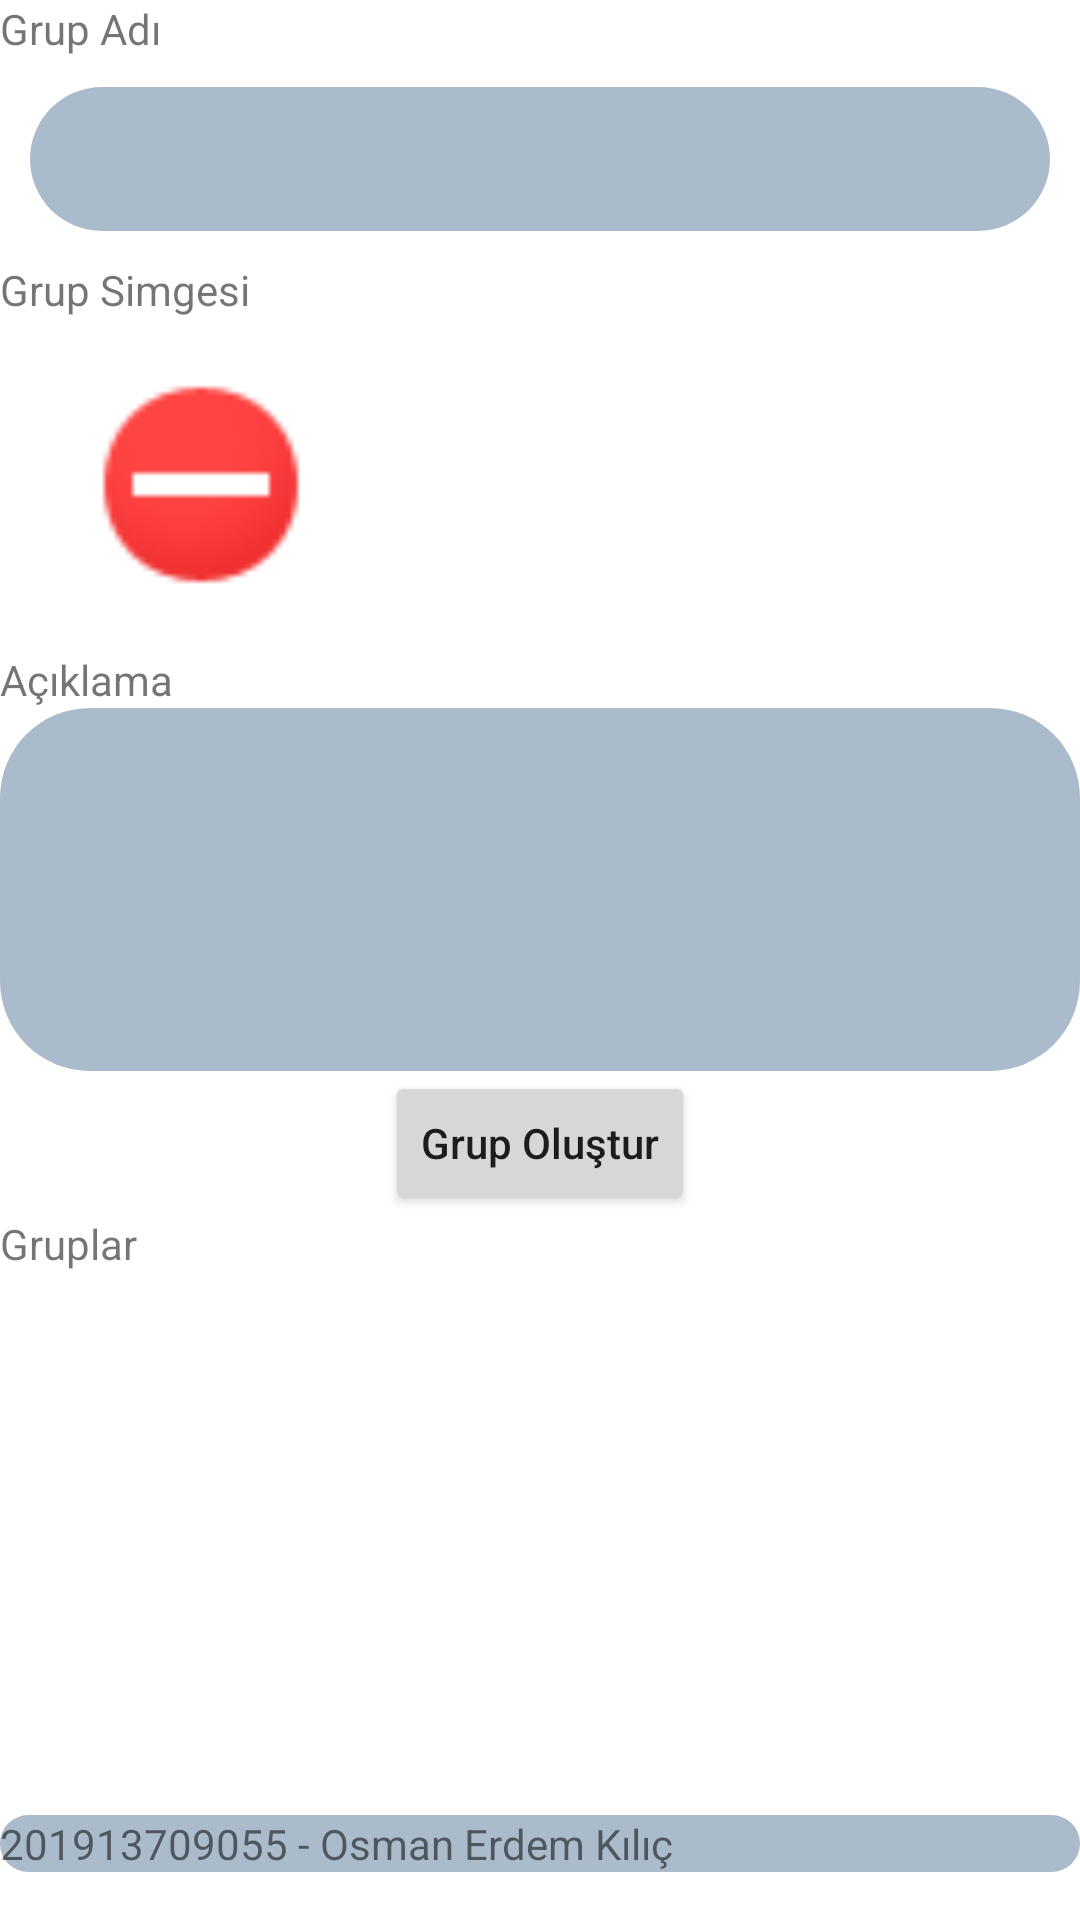

Named icons in this screenshot (1080×1920) and their centers, [x,y]:
presence busy: [201,484]
